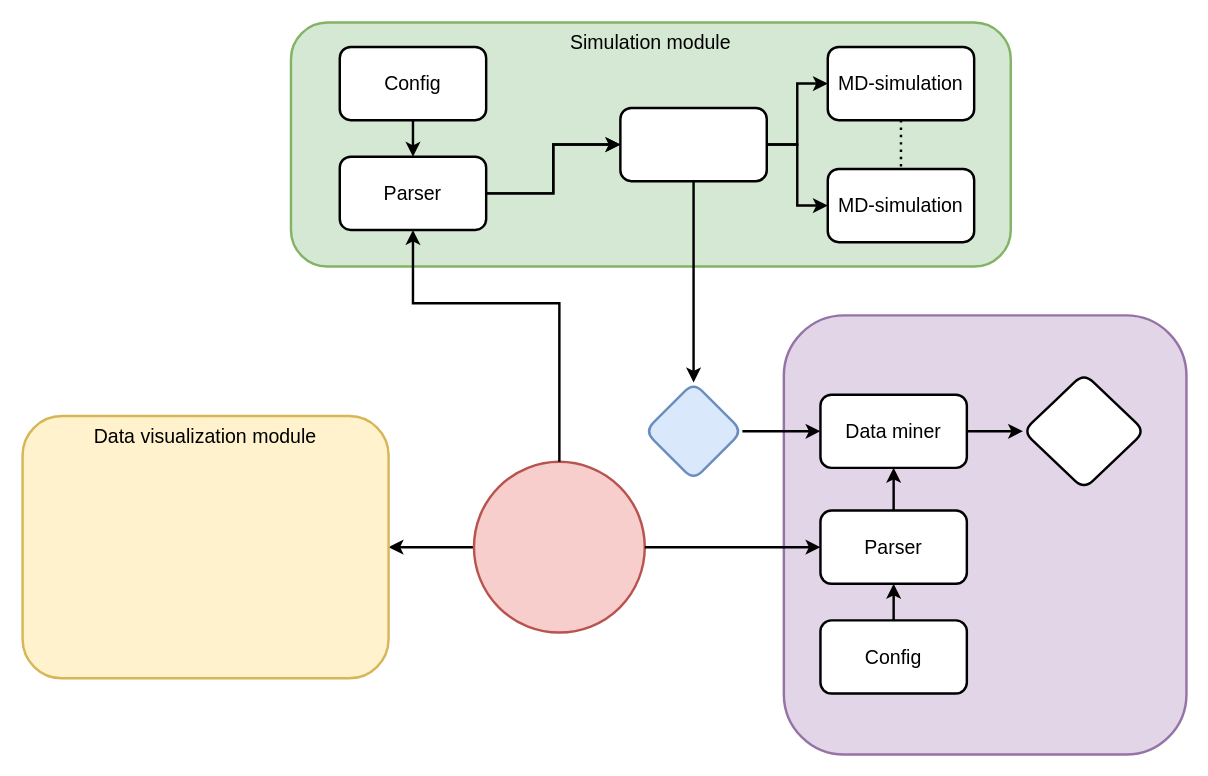
The diagram is 1208 pixels wide and 776 high, and some of its shapes have lost their labels. The box of each missing label's shape, as (x1, y1, x2, y2) in pixels:
Data processing module: (782, 314, 1187, 755)
DB: (643, 381, 743, 481)
Filtered Data: (1021, 371, 1146, 490)
MDSE: (472, 460, 645, 633)
Run manager: (619, 106, 767, 182)
